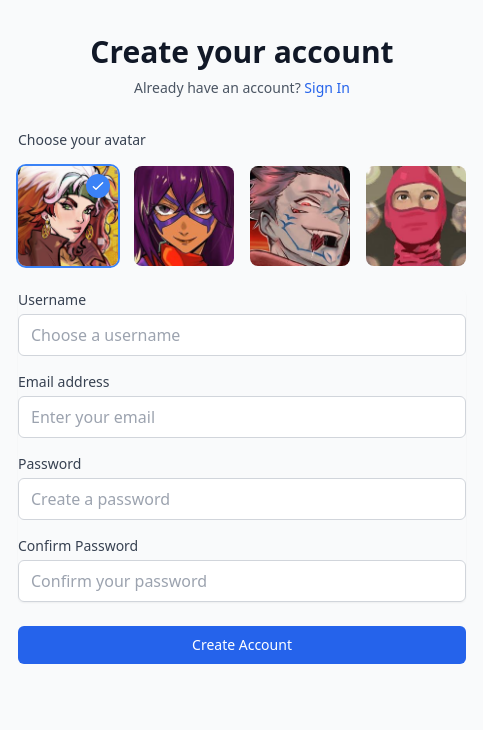
Test case: Register Component › shows error message on failed registration
Fill in form
In the field labelled "Username": (242, 335) [18,314,466,356], type "testuser"
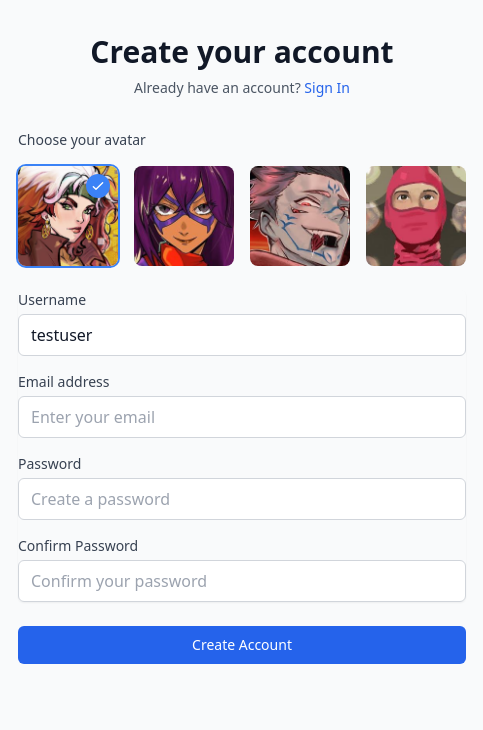
In the field labelled "Email address": (242, 417) [18,396,466,438], type "test@example.com"
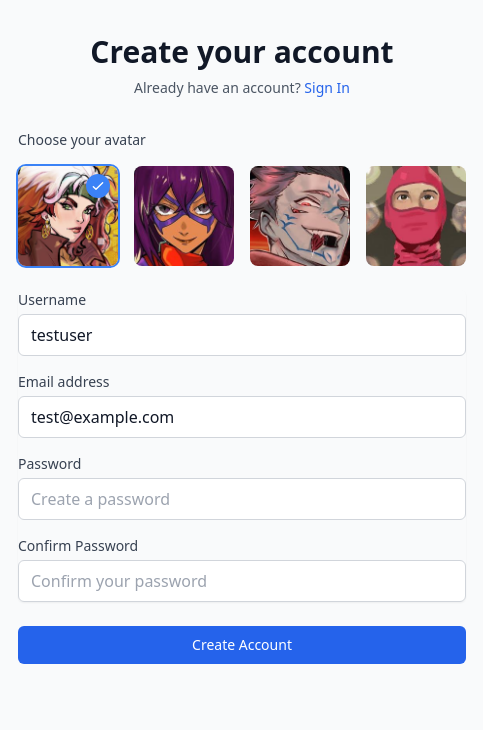
In the password field labelled "Password": (242, 499) [18,478,466,520], type "password123"
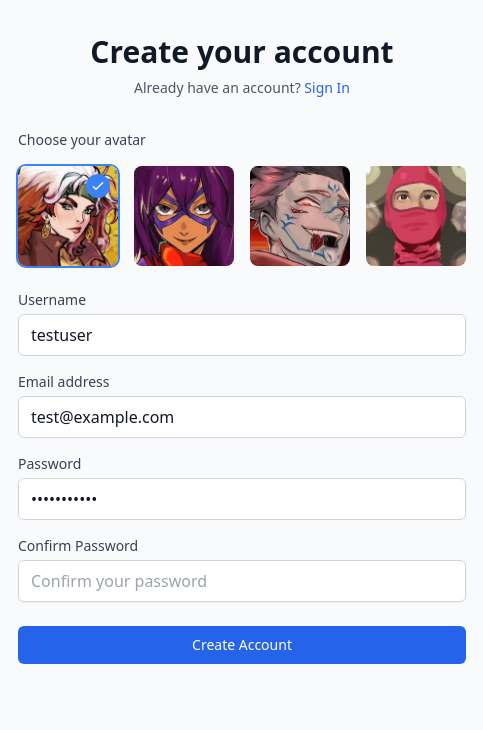
In the password field labelled "Confirm Password": (242, 581) [18,560,466,602], type "password123"
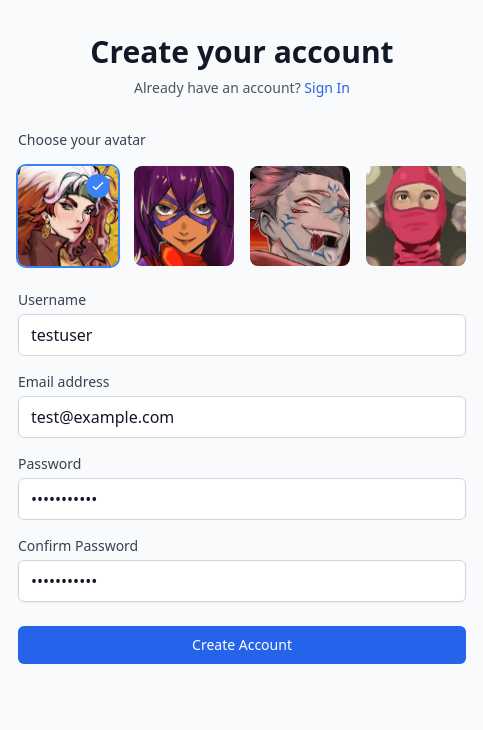
Submit form
Click the button "Create Account": (242, 645) [18,626,466,664]
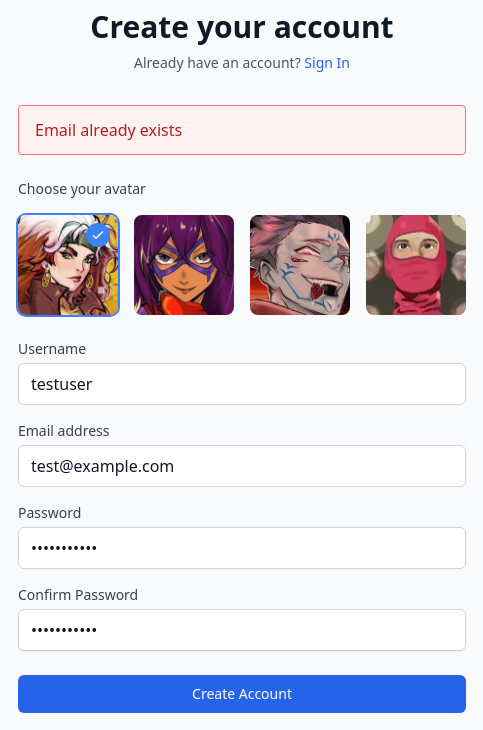
Now the text "Email already exists" is shown, box [18,105,466,155]
